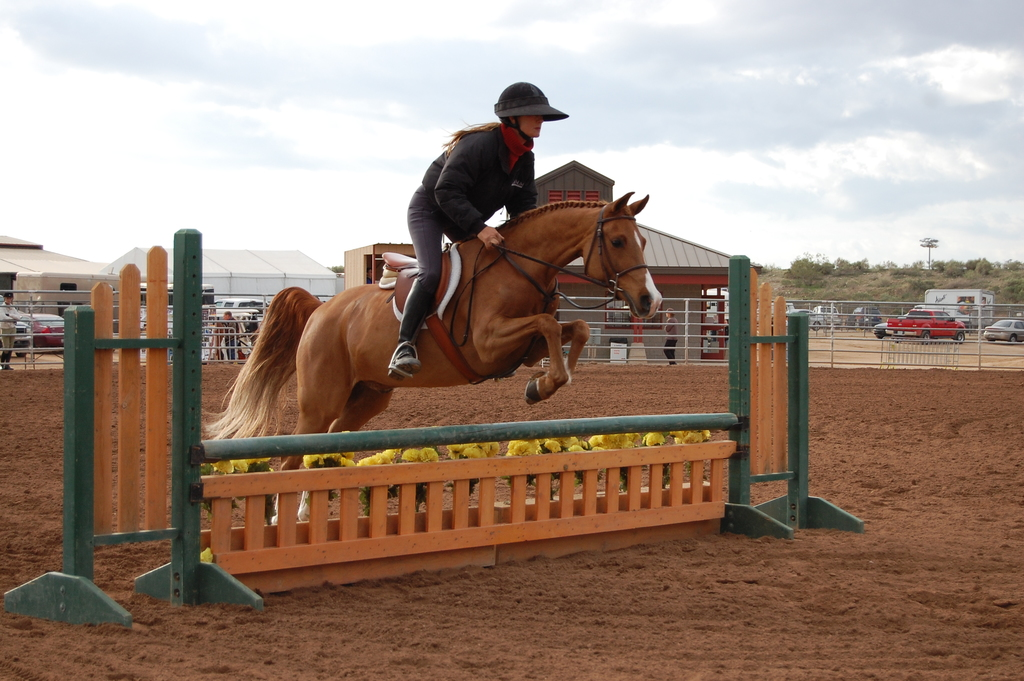Person: (388, 81, 569, 381), (0, 292, 22, 369), (662, 306, 679, 366), (223, 309, 238, 359)
